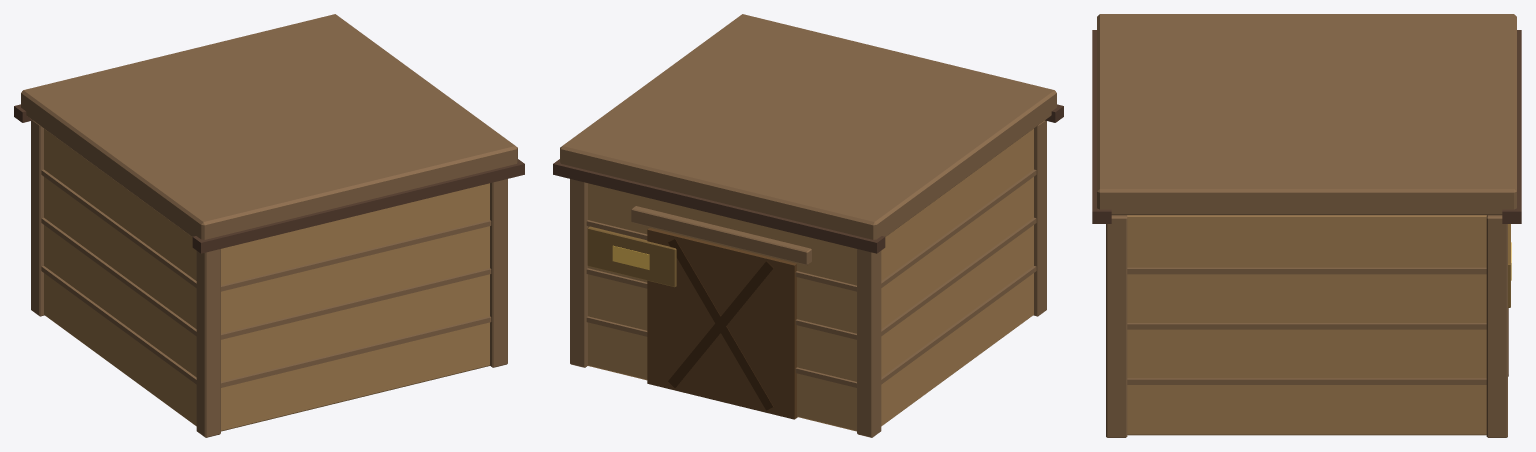
The model's file is warehouse.glb.
The picture shows the model from 3 angles, left to right: view 1: azimuth 30°, elevation 25°; view 2: azimuth 150°, elevation 25°; view 3: azimuth 270°, elevation 25°; orthographic projection. The views are drawn at different scales.
Parts seen in each view (by area): view 1: M_b1, M_b0, M_b2; view 2: M_b1, M_b0, DoorPanel, M_b2, M_b3, DoorBraceA, DoorBraceB, M_b4; view 3: M_b1, M_b0, M_b2.
Part boxes in pixels (box(x1,y1,x2,y2)): M_b1: box(21, 14, 517, 437); M_b0: box(44, 128, 489, 431); M_b2: box(14, 104, 524, 253); M_b1: box(560, 14, 1056, 437); M_b0: box(588, 128, 1033, 431); DoorPanel: box(647, 228, 797, 419); M_b2: box(553, 104, 1063, 253); M_b3: box(587, 226, 676, 287); DoorBraceA: box(668, 261, 773, 387); DoorBraceB: box(668, 239, 773, 410); M_b4: box(612, 245, 649, 269); M_b1: box(1097, 14, 1516, 437); M_b0: box(1127, 215, 1486, 435); M_b2: box(1092, 30, 1521, 223).
Size of the model in its own units: 4.4 by 2.85 by 4.4.
